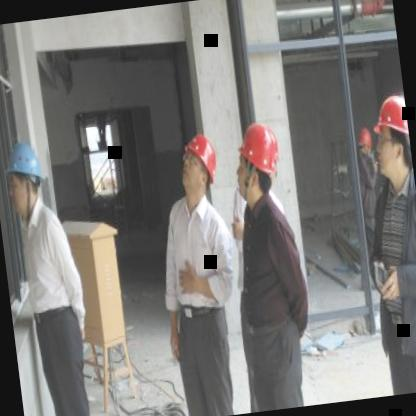helmet: (228, 118, 290, 210), (0, 129, 51, 221), (370, 90, 414, 188), (175, 126, 226, 205), (354, 123, 375, 159)
